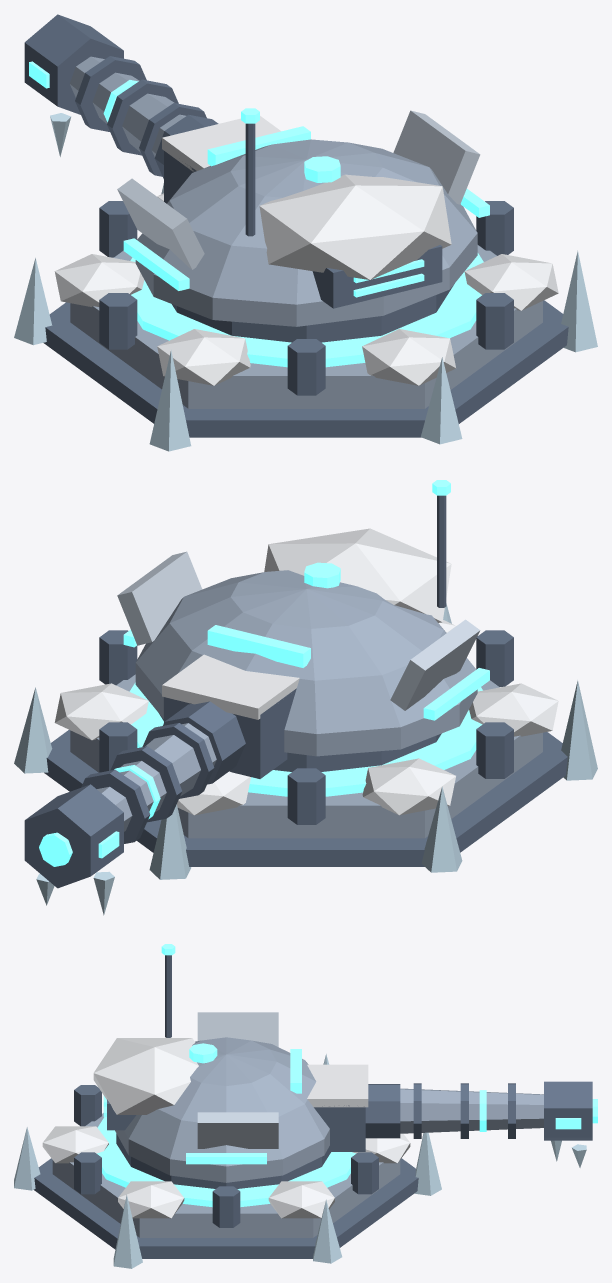
Rendered from turret_lvl2.glb.
3 views of the same model, one above another, from view 1: azimuth 30°, elevation 25°; view 2: azimuth 150°, elevation 25°; view 3: azimuth 270°, elevation 25° (orthographic). The views are drawn at different scales.
Visible parts, largest first — view 1: Dome_05, BaseSkirt_02, SnowBlanket_37, Base_01, Neon_BaseRing_03, MuzzleBrake_15, Pivot_04, ArmorPlate_28, SnowMound_42, SnowMound_41, SnowMound_43, ArmorPlate_27 (+23 smaller); view 2: Dome_05, BaseSkirt_02, Base_01, SnowBlanket_37, MuzzleBrake_15, SnowCap_08, Neon_BaseRing_03, ArmorPlate_28, SnowMound_40, SnowMound_38, ArmorPlate_27, BarrelMount_07 (+22 smaller); view 3: Dome_05, BaseSkirt_02, Base_01, SnowBlanket_37, BarrelTube_10, Neon_BaseRing_03, ArmorPlate_28, MuzzleBrake_15, SnowCap_08, ArmorPlate_27, SnowMound_38, SnowMound_43 (+21 smaller).
Part boxes in pixels (left/top/right/bottom): Dome_05: left=135, top=139, right=477, bottom=326; BaseSkirt_02: left=43, top=300, right=568, bottom=437; SnowBlanket_37: left=259, top=174, right=451, bottom=279; Base_01: left=70, top=245, right=542, bottom=408; Neon_BaseRing_03: left=130, top=253, right=483, bottom=367; MuzzleBrake_15: left=24, top=14, right=123, bottom=114; Pivot_04: left=172, top=283, right=454, bottom=342; ArmorPlate_28: left=393, top=110, right=480, bottom=204; SnowMound_42: left=362, top=329, right=455, bottom=385; SnowMound_41: left=157, top=329, right=250, bottom=385; SnowMound_43: left=464, top=254, right=558, bottom=310; ArmorPlate_27: left=117, top=178, right=204, bottom=269; Dome_05: left=135, top=570, right=477, bottom=756; BaseSkirt_02: left=44, top=730, right=567, bottom=866; Base_01: left=70, top=674, right=542, bottom=838; SnowBlanket_37: left=264, top=528, right=451, bottom=622; MuzzleBrake_15: left=24, top=784, right=123, bottom=888; SnowCap_08: left=162, top=654, right=299, bottom=719; Neon_BaseRing_03: left=129, top=682, right=482, bottom=796; ArmorPlate_28: left=117, top=551, right=202, bottom=645; SnowMound_40: left=362, top=758, right=455, bottom=815; SnowMound_38: left=54, top=683, right=148, bottom=740; ArmorPlate_27: left=390, top=619, right=480, bottom=710; BarrelMount_07: left=164, top=688, right=296, bottom=778; Dome_05: left=115, top=1037, right=329, bottom=1182; BaseSkirt_02: left=34, top=1158, right=418, bottom=1258; Base_01: left=52, top=1113, right=400, bottom=1237; SnowBlanket_37: left=93, top=1038, right=198, bottom=1114; BarrelTube_10: left=400, top=1088, right=543, bottom=1133; Neon_BaseRing_03: left=96, top=1117, right=356, bottom=1207; ArmorPlate_28: left=197, top=1112, right=278, bottom=1148; MuzzleBrake_15: left=544, top=1081, right=592, bottom=1140; SnowCap_08: left=307, top=1064, right=368, bottom=1107; ArmorPlate_27: left=197, top=1012, right=278, bottom=1046; SnowMound_38: left=268, top=1181, right=334, bottom=1218; SnowMound_43: left=118, top=1181, right=184, bottom=1218.
Size of the model in its own units: 3.25 by 1.98 by 5.04.
